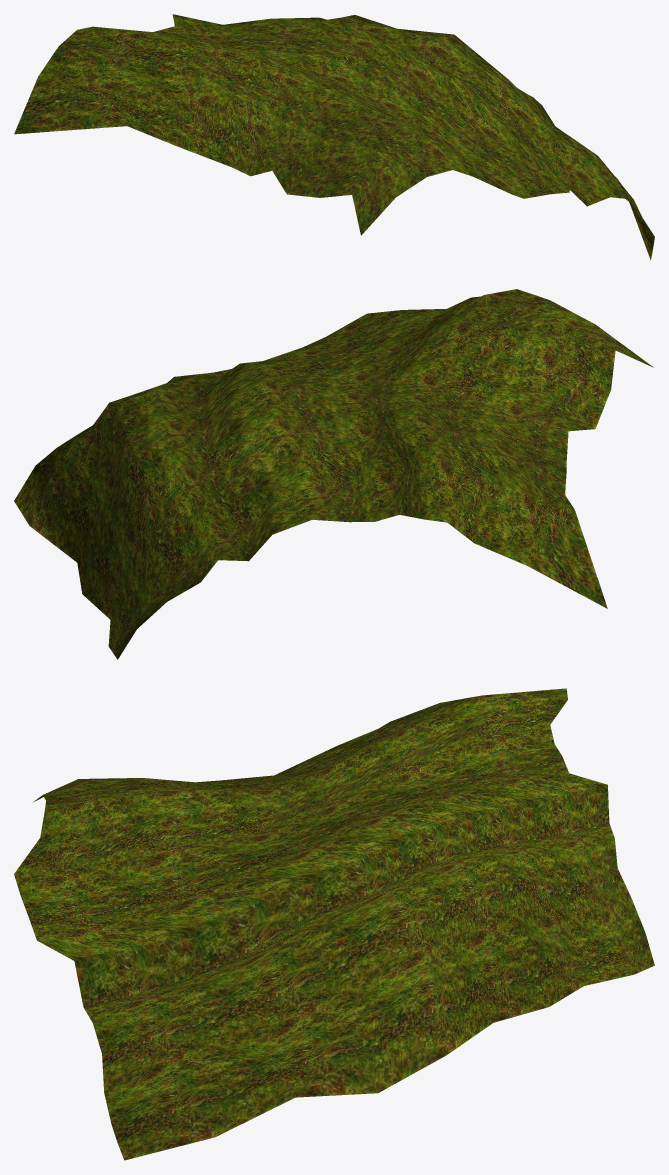
The model's file is TROLLHOLE02_ZOBJECT04.fbx.
The picture shows the model from 3 angles, top to bottom: view 1: azimuth 30°, elevation 25°; view 2: azimuth 150°, elevation 25°; view 3: azimuth 270°, elevation 25°; orthographic projection. The views are drawn at different scales.
Parts seen in each view (by area): view 1: TROLLHOLE02_ZOBJECT04; view 2: TROLLHOLE02_ZOBJECT04; view 3: TROLLHOLE02_ZOBJECT04.
Part boxes in pixels (x1,y1,x2,y2): TROLLHOLE02_ZOBJECT04: (14, 14, 654, 260); TROLLHOLE02_ZOBJECT04: (14, 289, 653, 659); TROLLHOLE02_ZOBJECT04: (14, 688, 654, 1160).
Size of the model in its own units: 345043 by 135980 by 313212.
Materials: 1 (1 with a texture image).
